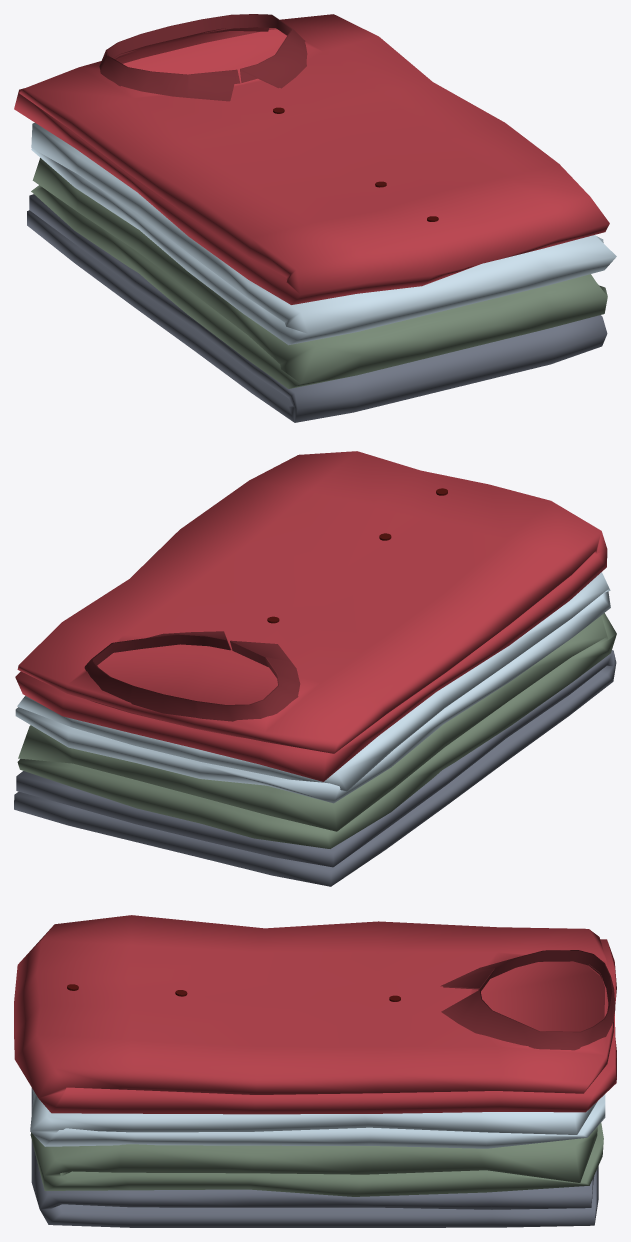
The model's file is Clothes.fbx.
3 views of the same model, one above another, from view 1: azimuth 30°, elevation 25°; view 2: azimuth 150°, elevation 25°; view 3: azimuth 270°, elevation 25° (orthographic). The views are drawn at different scales.
Parts seen in each view (by area): view 1: Clothes; view 2: Clothes; view 3: Clothes.
Part boxes in pixels (<box>): Clothes: <box>14,14,616,422</box>; Clothes: <box>14,451,616,886</box>; Clothes: <box>14,915,616,1227</box>.
Size of the model in its own units: 329 by 153 by 505.
